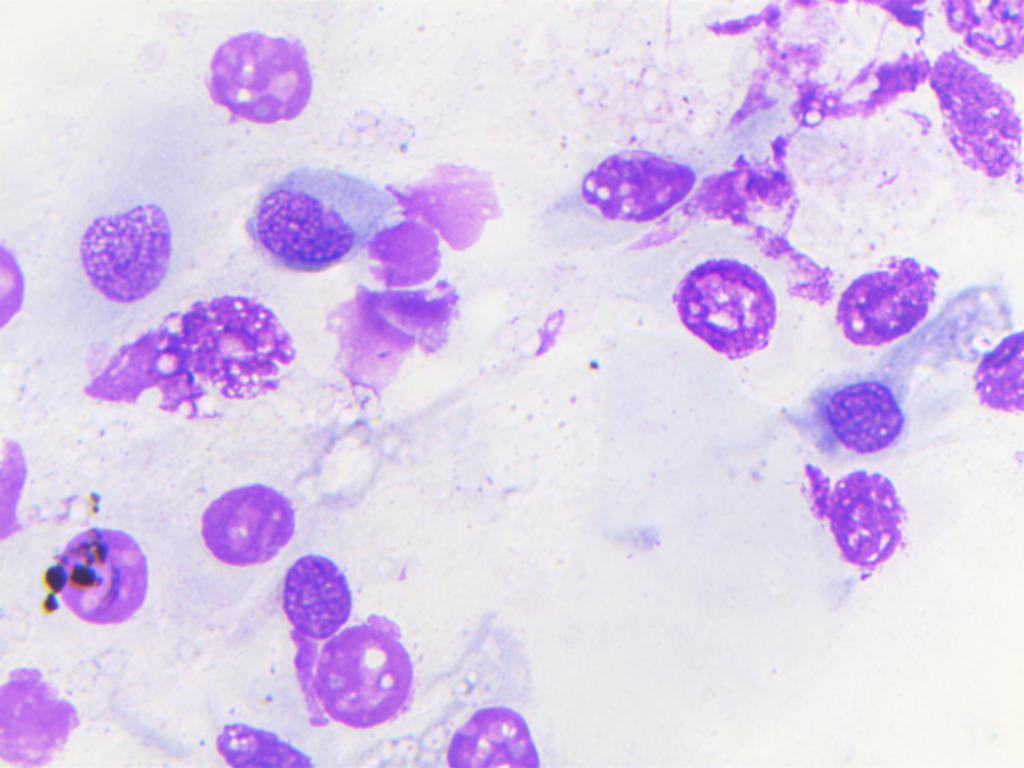artifact: (40, 540, 98, 618)
epithelial: (291, 611, 446, 732), (160, 287, 303, 401), (190, 20, 333, 133), (560, 120, 706, 221), (657, 248, 781, 364), (242, 160, 364, 273), (69, 189, 178, 304), (802, 473, 911, 584), (806, 367, 913, 457), (836, 250, 936, 345), (61, 526, 151, 626), (431, 701, 565, 768), (197, 474, 297, 562), (188, 705, 314, 768), (271, 554, 350, 637)
goblet_cell: (952, 277, 1024, 424)
